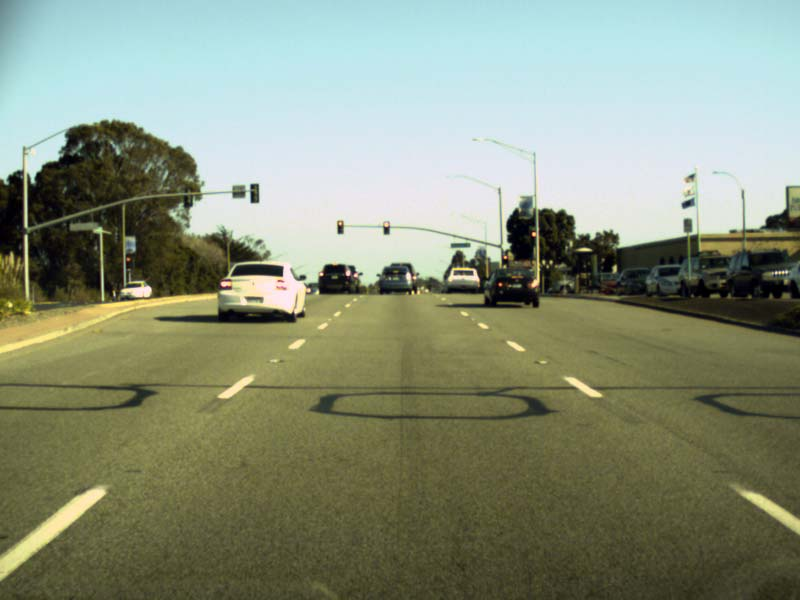Red: (529, 226, 536, 246), (336, 220, 343, 234), (383, 221, 389, 234), (126, 254, 131, 267), (501, 255, 507, 262)
